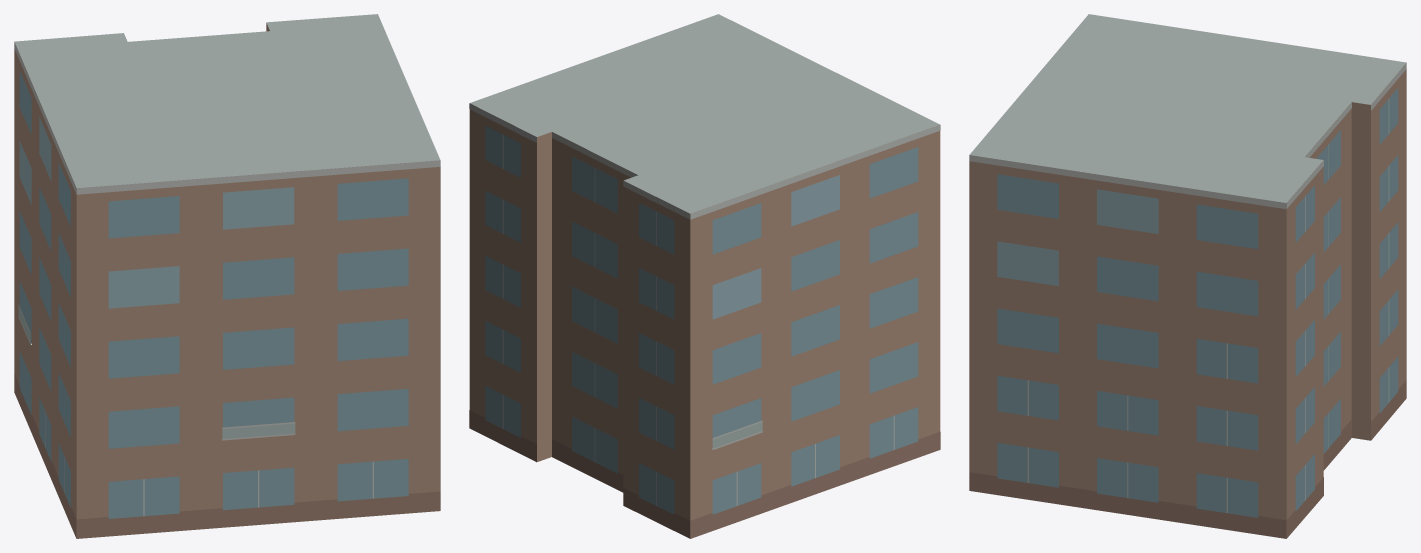
File: survey-upis-32698096.glb
The picture shows the model from 3 angles, left to right: view 1: azimuth 30°, elevation 25°; view 2: azimuth 150°, elevation 25°; view 3: azimuth 270°, elevation 25°; orthographic projection. The views are drawn at different scales.
Visible parts, largest first — view 1: survey-upis-32698096.tmp; view 2: survey-upis-32698096.tmp; view 3: survey-upis-32698096.tmp.
Part boxes in pixels (<box>): survey-upis-32698096.tmp: <box>14,14,440,538</box>; survey-upis-32698096.tmp: <box>469,14,940,538</box>; survey-upis-32698096.tmp: <box>969,14,1406,538</box>.
Bounding box in the file's own units: 16.01 × 13.25 × 15.65.
